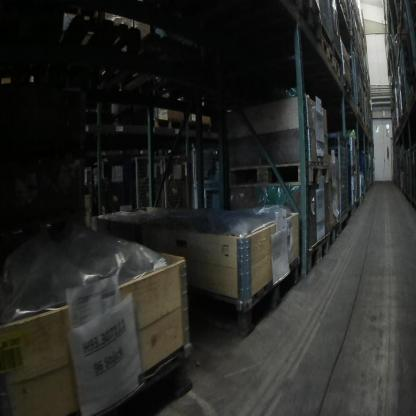pallet: (182, 256, 303, 342), (35, 10, 140, 104), (107, 338, 201, 415), (136, 26, 190, 116), (227, 156, 329, 194), (305, 232, 332, 287), (318, 219, 340, 253), (315, 36, 335, 71), (329, 43, 343, 88), (331, 102, 364, 119), (335, 74, 353, 98), (394, 24, 411, 43), (338, 2, 353, 20), (406, 85, 415, 105), (396, 112, 406, 130), (346, 16, 355, 36), (402, 102, 413, 118), (358, 110, 365, 128)
stillage: (190, 145, 234, 212), (325, 125, 349, 228), (96, 152, 133, 218), (132, 142, 165, 213), (165, 150, 194, 217), (347, 53, 365, 118), (315, 2, 333, 41), (354, 139, 364, 207), (402, 141, 412, 202), (397, 52, 407, 110), (409, 139, 415, 208), (362, 148, 369, 195), (359, 143, 363, 203)
